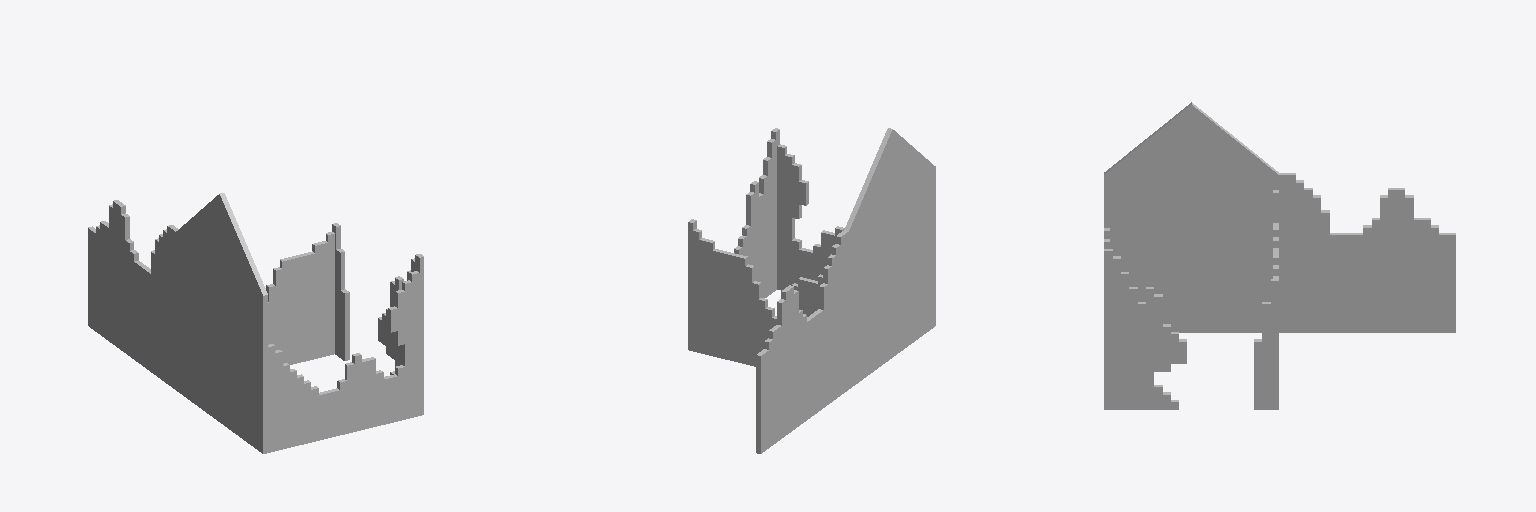
Rendered from DestroyedHouse.obj.
3 renders of one model, left to right at view 1: azimuth 30°, elevation 25°; view 2: azimuth 150°, elevation 25°; view 3: azimuth 270°, elevation 25°, orthographic.
Parts seen in each view (by area): view 1: Destroyedhouse; view 2: Destroyedhouse; view 3: Destroyedhouse.
Part boxes in pixels (bbox=[...]): Destroyedhouse: bbox=[88, 193, 423, 453]; Destroyedhouse: bbox=[688, 128, 935, 453]; Destroyedhouse: bbox=[1104, 102, 1455, 409].
Size of the model in its own units: 13.92 by 18.87 by 26.29.